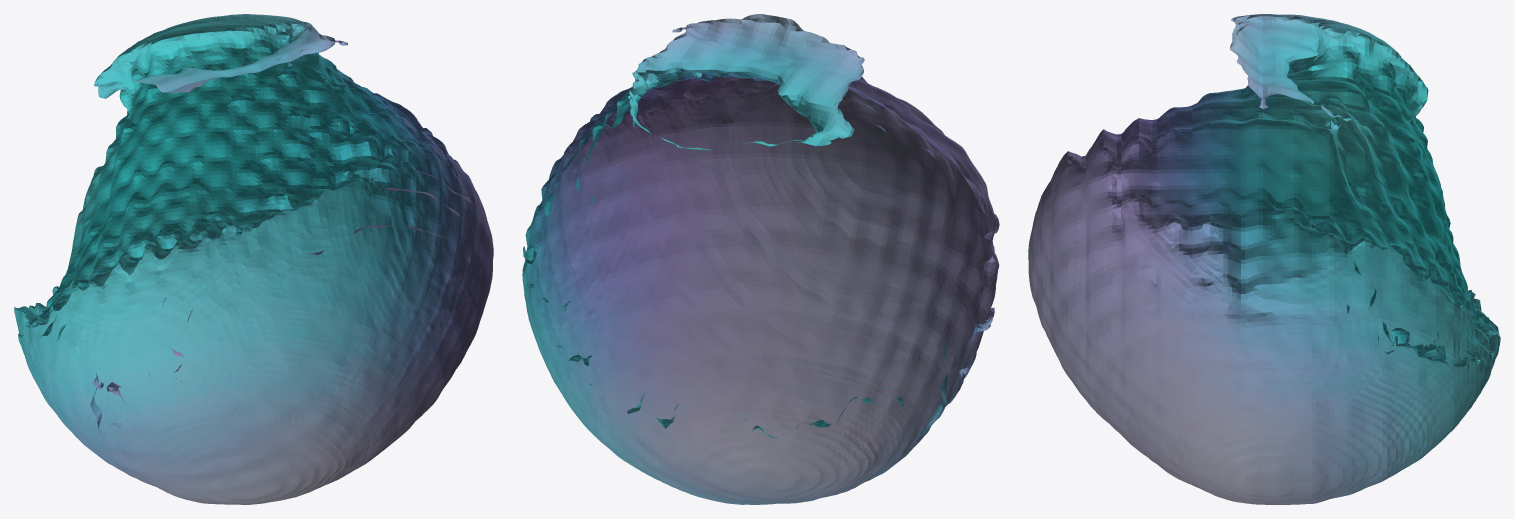
The picture shows the model from 3 angles, left to right: view 1: azimuth 30°, elevation 25°; view 2: azimuth 150°, elevation 25°; view 3: azimuth 270°, elevation 25°; orthographic projection.
Parts seen in each view (by area): view 1: geometry_0; view 2: geometry_0; view 3: geometry_0.
Part boxes in pixels (x1,y1,x2,y2): geometry_0: [14, 14, 493, 504]; geometry_0: [522, 14, 999, 504]; geometry_0: [1028, 14, 1500, 504].
Size of the model in its own units: 1.48 by 1.6 by 1.52.
